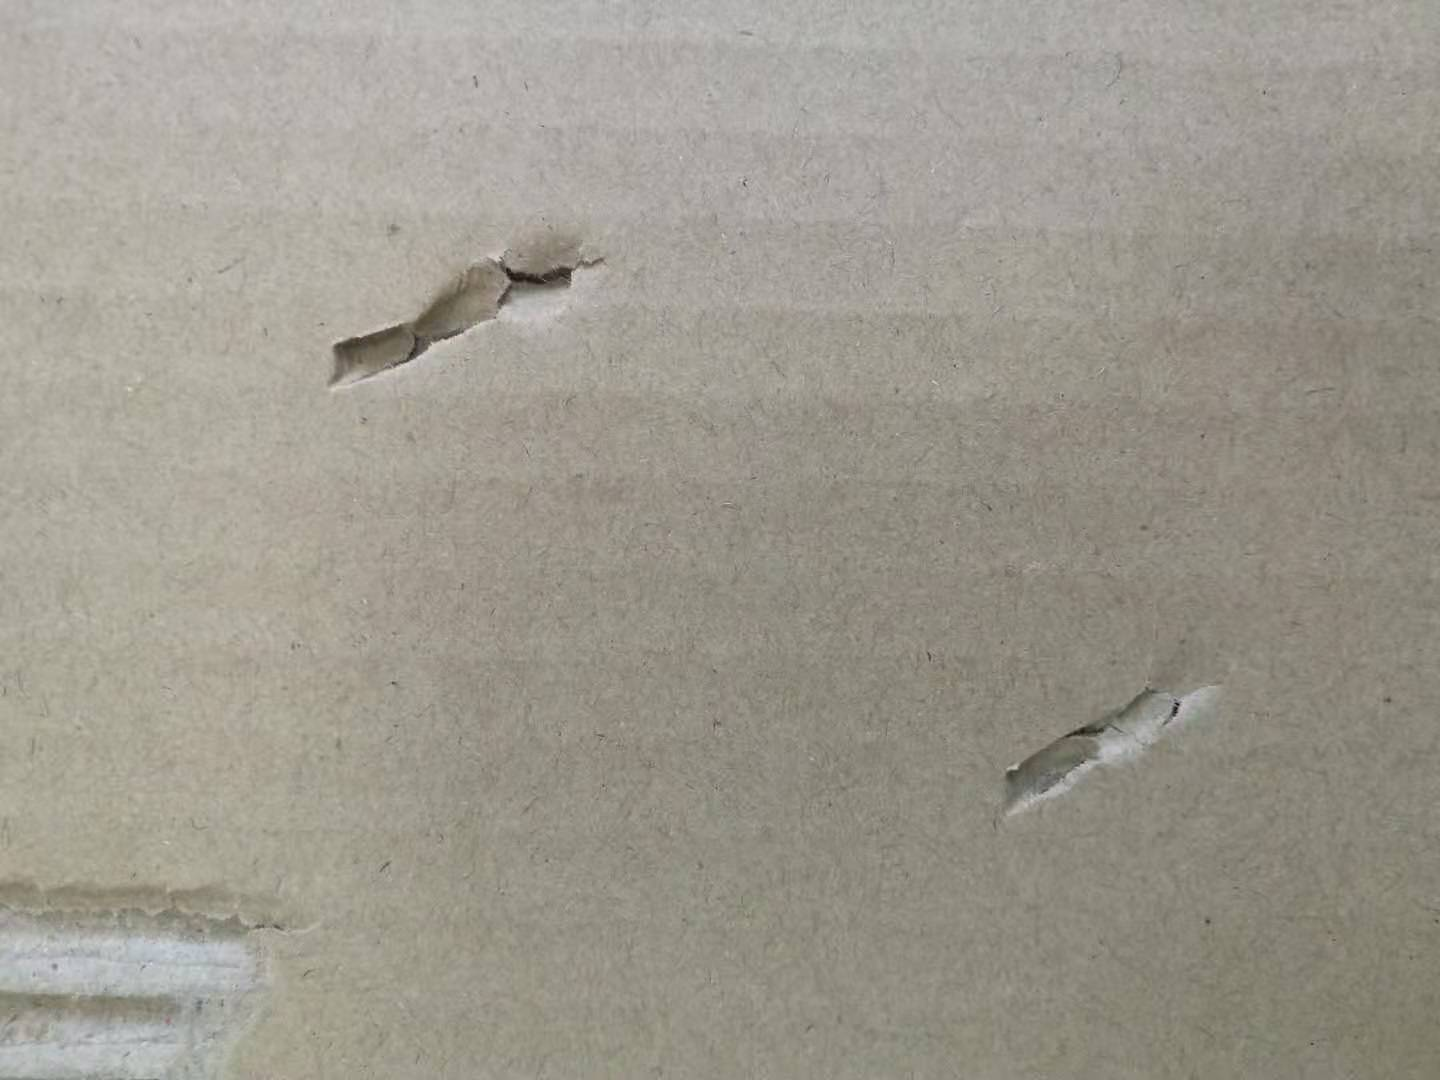defect: (2, 835, 351, 1080), (293, 185, 645, 413), (977, 649, 1268, 841)
